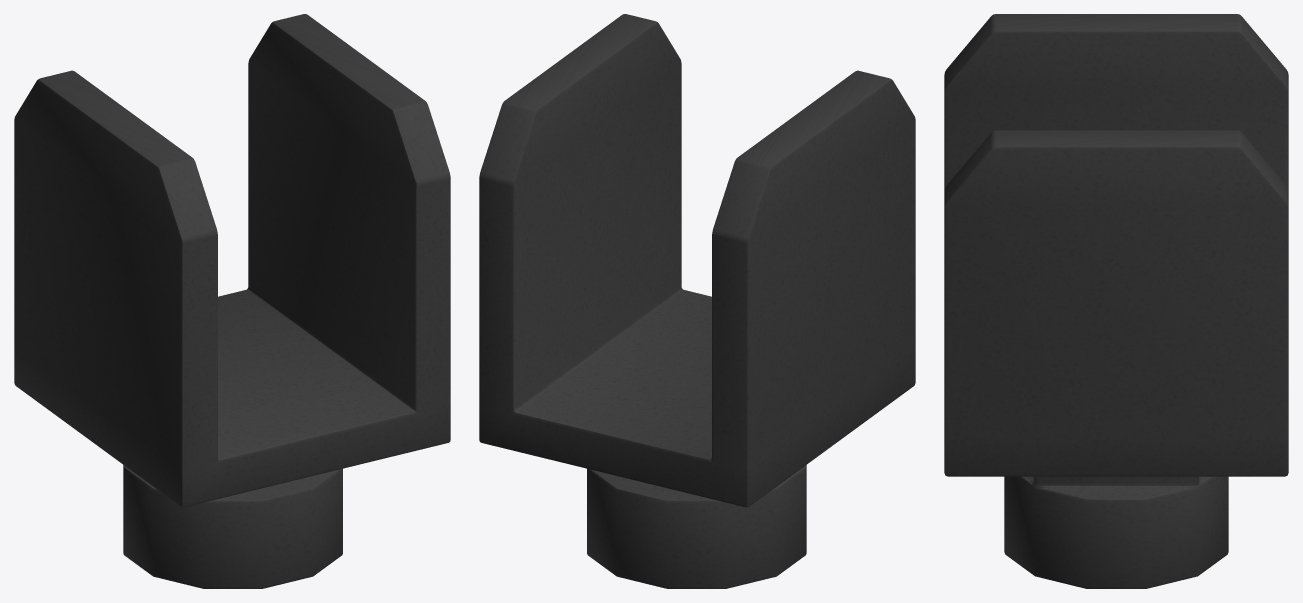
Rendered from camera_2.gltf.
3 views of the same model, side by side, from view 1: azimuth 30°, elevation 25°; view 2: azimuth 150°, elevation 25°; view 3: azimuth 270°, elevation 25° (orthographic).
Parts seen in each view (by area): view 1: camera_2; view 2: camera_2; view 3: camera_2.
Boxes of the visible parts, box(x1,y1,x2,y2) form: camera_2: box(14, 14, 450, 588); camera_2: box(479, 14, 915, 588); camera_2: box(944, 14, 1288, 588).
Size of the model in its own units: 0.0274 by 0.044 by 0.0297.
Materials: 1 (1 with a texture image).
